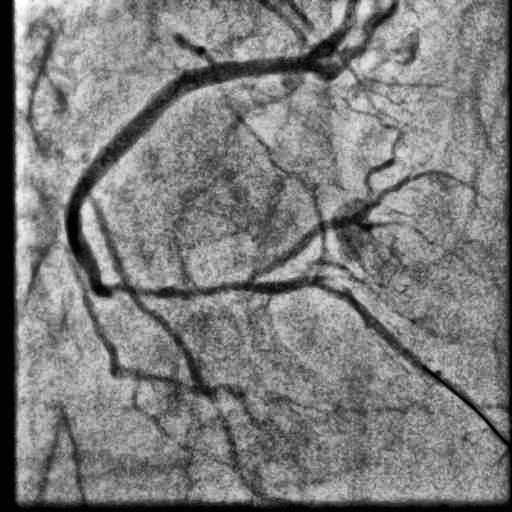pborca: (249, 170, 446, 283)
pda: (250, 277, 420, 367)
rca: (66, 56, 308, 299)
